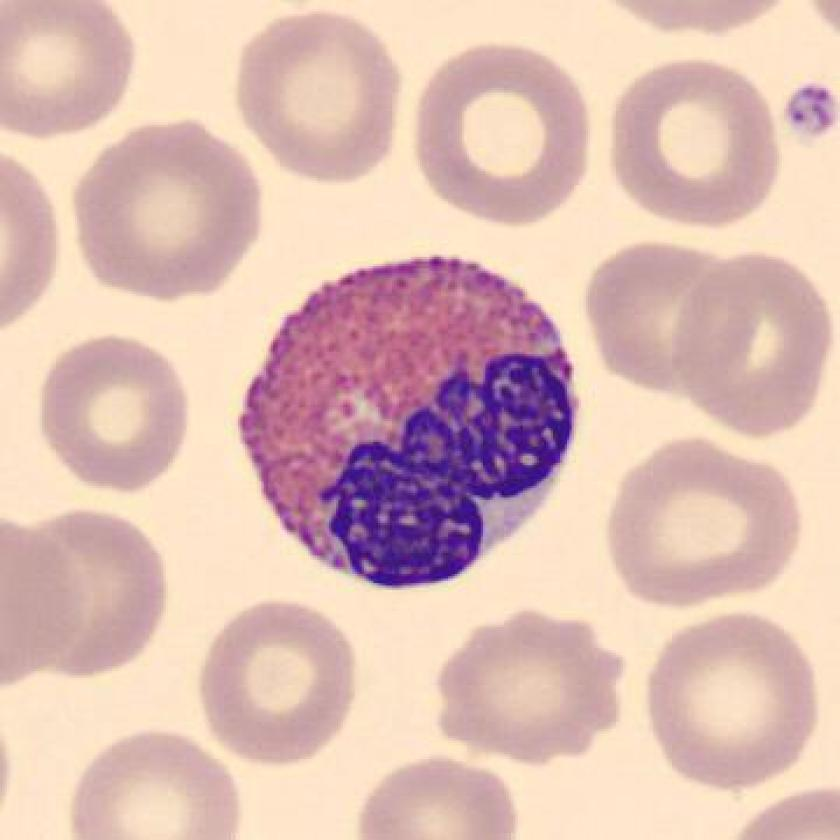eosinophil: (230, 247, 589, 601)
